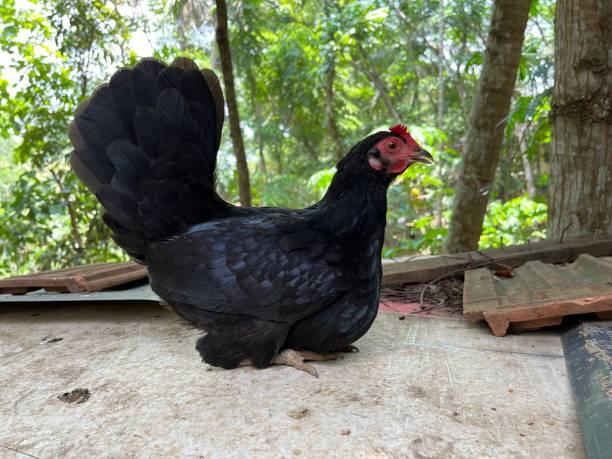AbNormal: (76, 58, 425, 371)
